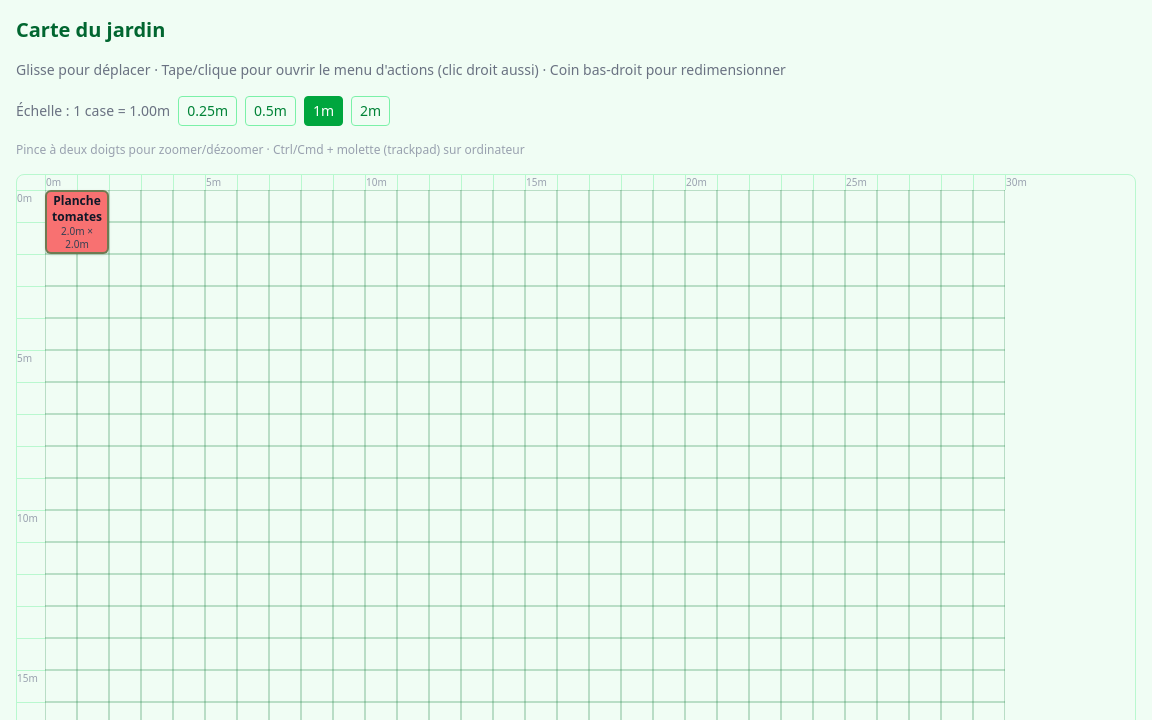
Test case: GardenMapPage › un clic en dehors de la tuile et du menu ferme le menu
Press the mouse on the element showing "Planche tomates 2.0m × 2.0m" at (77, 222), box [45,190,109,254]
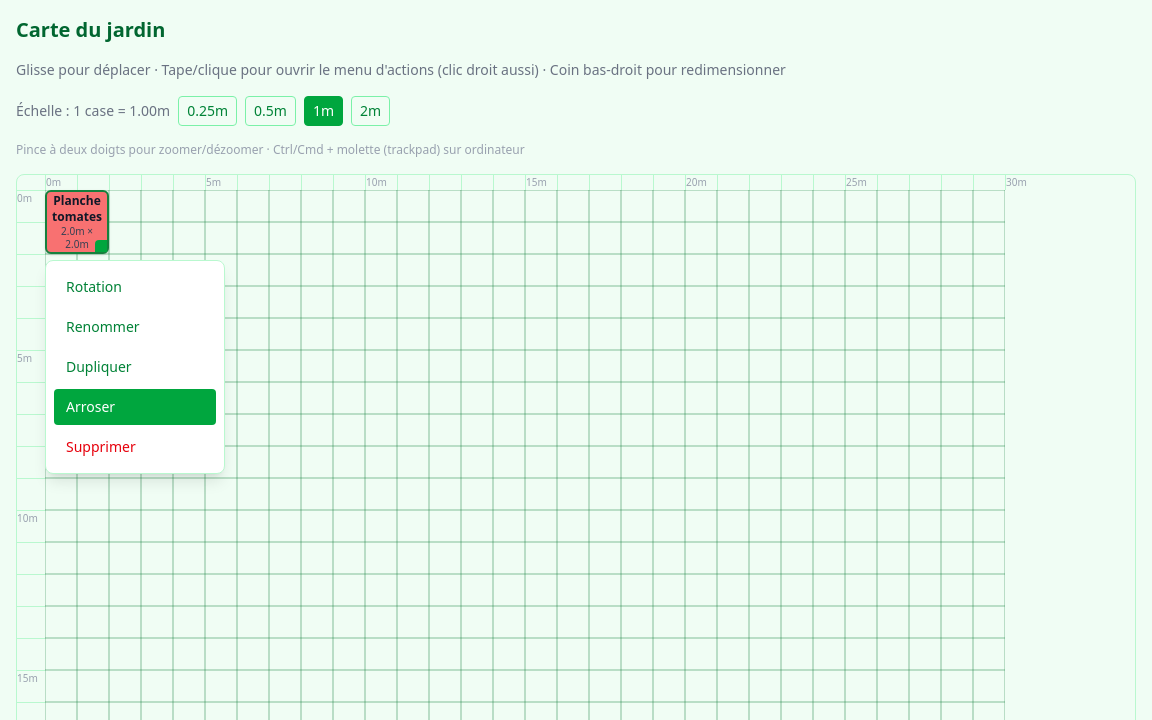
Result: the element with test id "parcel-context-menu" is shown at [45,260,225,474]
Press the mouse on the element that starts with "Carte du jardin" at (576, 360), box [0,0,1151,719]
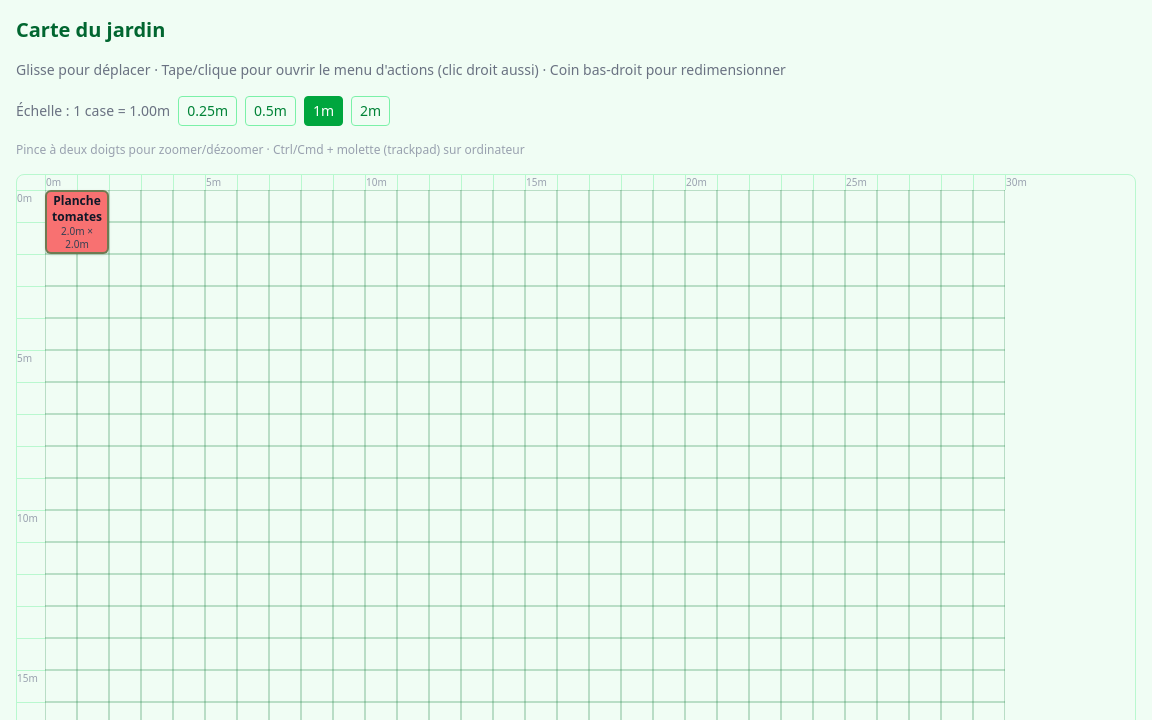
Result: the element with test id "parcel-context-menu" is gone
